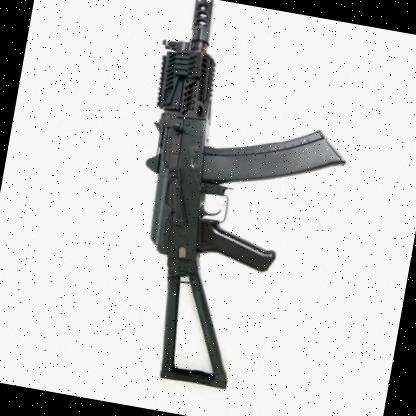rifle: (98, 0, 391, 416)
